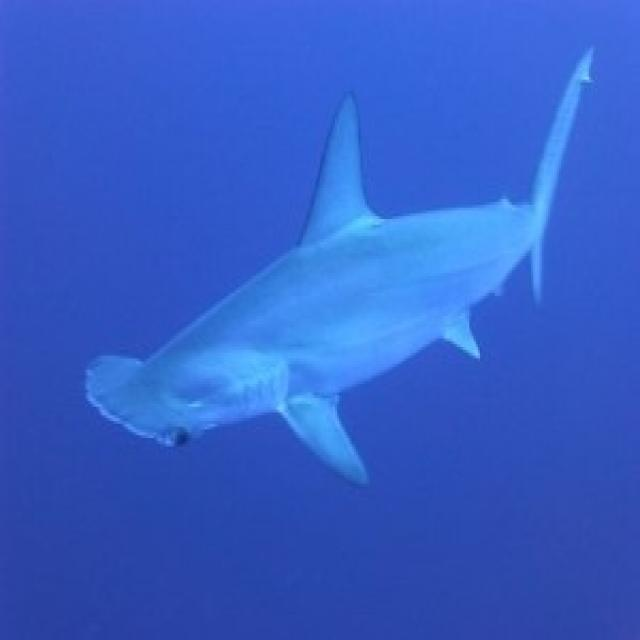Shark: (68, 36, 604, 494)
